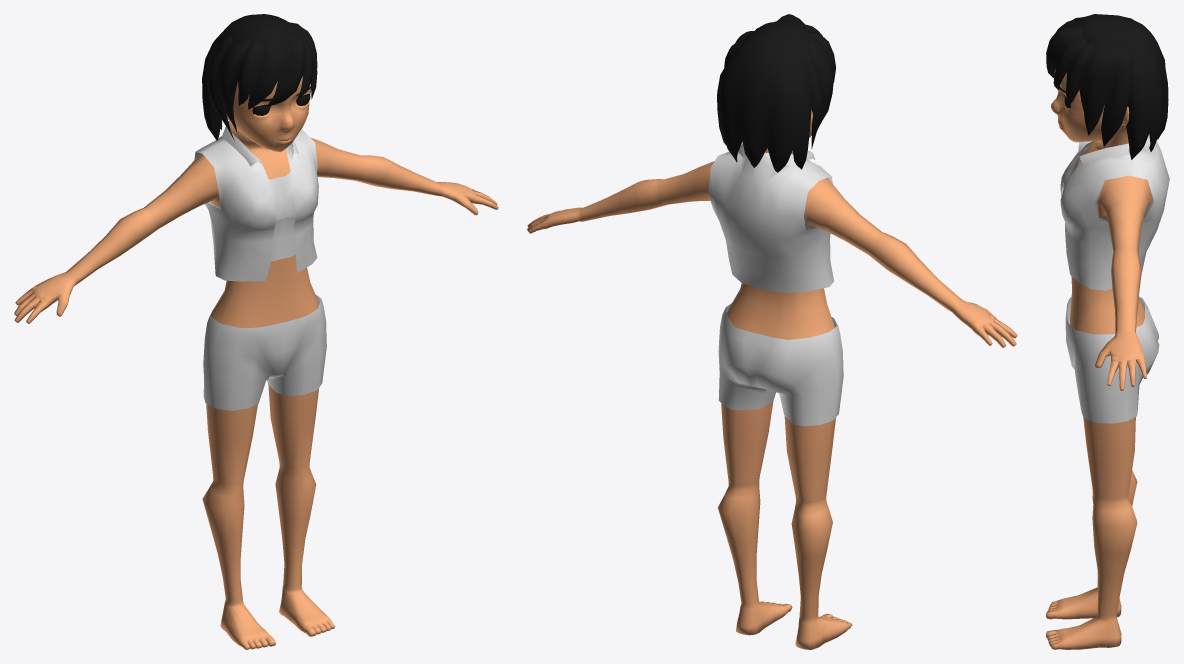
File: Female Model SP2.FBX
The picture shows the model from 3 angles, left to right: view 1: azimuth 30°, elevation 25°; view 2: azimuth 150°, elevation 25°; view 3: azimuth 270°, elevation 25°; orthographic projection.
Visible parts, largest first — view 1: Body, Clothes, Hair back; view 2: Body, Clothes, Hair back; view 3: Body, Clothes, Hair back.
Part boxes in pixels (bbox=[...]): Body: bbox=[14, 76, 498, 649]; Clothes: bbox=[194, 121, 326, 410]; Hair back: bbox=[202, 14, 317, 140]; Body: bbox=[527, 110, 1017, 649]; Clothes: bbox=[708, 143, 843, 426]; Hair back: bbox=[717, 14, 835, 172]; Body: bbox=[1046, 68, 1152, 649]; Clothes: bbox=[1060, 134, 1169, 423]; Hair back: bbox=[1046, 14, 1168, 159].
Size of the model in its own units: 58.67 by 69.97 by 12.88.
